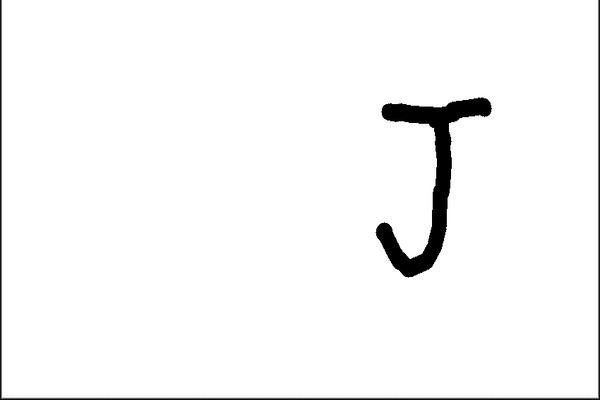J: (364, 94, 496, 282)
